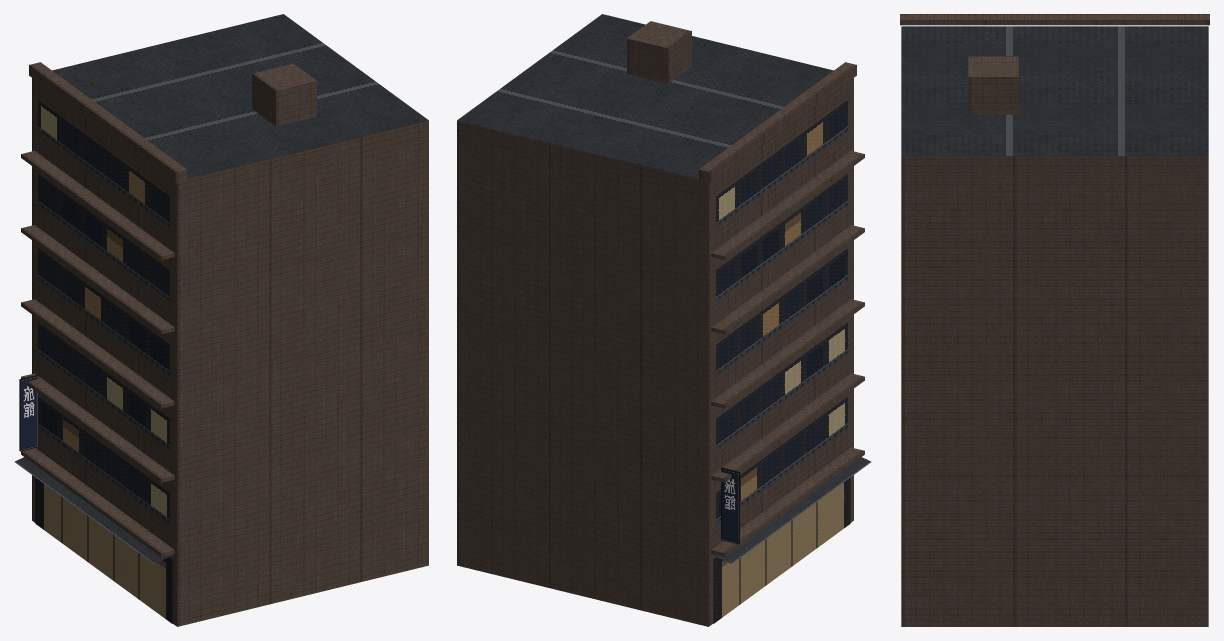
The model's file is mtn_block_up_c.glb.
3 views of the same model, side by side, from view 1: azimuth 30°, elevation 25°; view 2: azimuth 150°, elevation 25°; view 3: azimuth 270°, elevation 25° (orthographic). The views are drawn at different scales.
Parts seen in each view (by area): view 1: mtn_block_up_c; view 2: mtn_block_up_c; view 3: mtn_block_up_c.
Boxes of the visible parts, x1,y1,x2,y2 form: mtn_block_up_c: (14,14,428,626); mtn_block_up_c: (457,14,871,626); mtn_block_up_c: (900,14,1209,626).
Size of the model in its own units: 11.95 by 20.1 by 11.1.
Materials: 5 (5 with a texture image).
